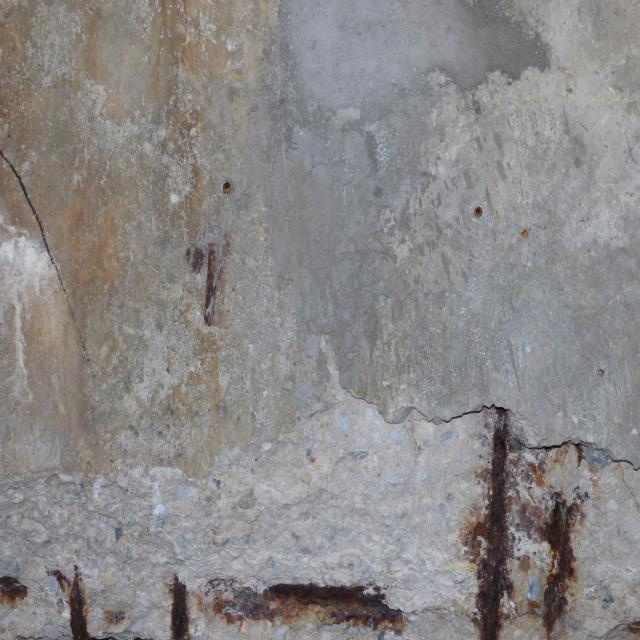corrosion: (454, 389, 592, 640), (1, 560, 433, 640), (179, 172, 230, 342), (469, 202, 488, 224), (518, 223, 532, 240)
